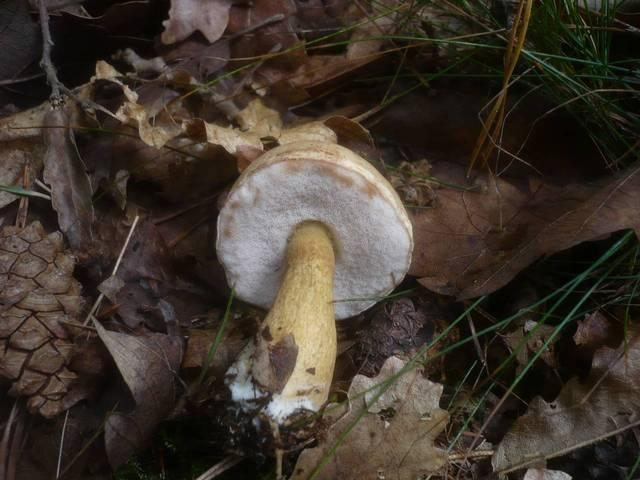Non-edible Mushroom: (212, 130, 415, 449)
